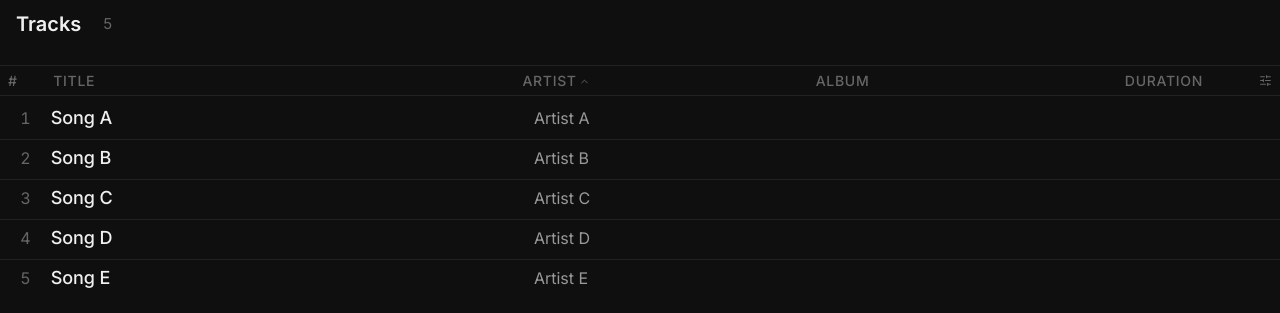
Test: TrackTableView row controls › persists a column toggle
The width and height of the screenshot is (1280, 313).
Click the button titled "Show/hide columns" at (1266, 80), box [1255,70,1276,91]
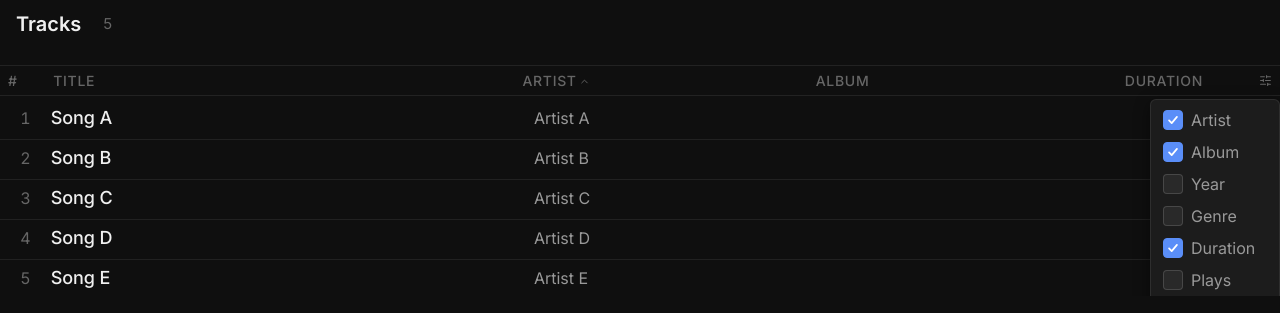
Click the checkbox labelled "Year" at (1173, 184), box [1163,174,1183,194]
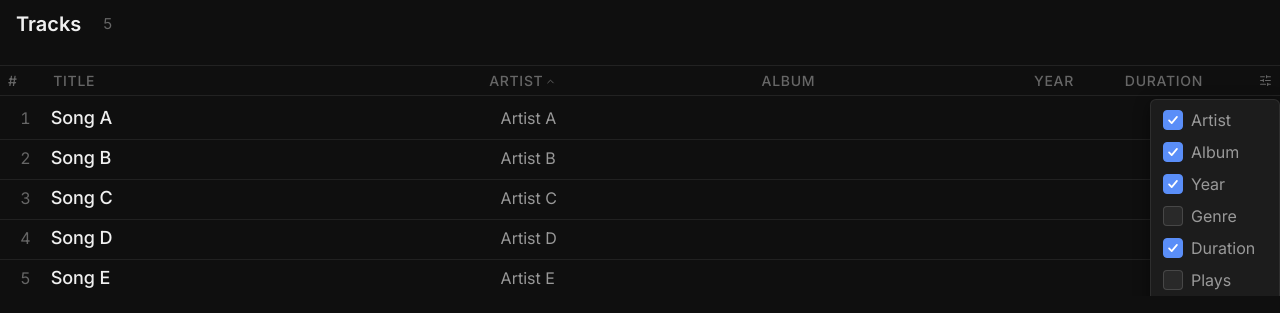
Now the button with class "track-sort-btn" showing "Year" is shown, box [1026,68,1101,93]
